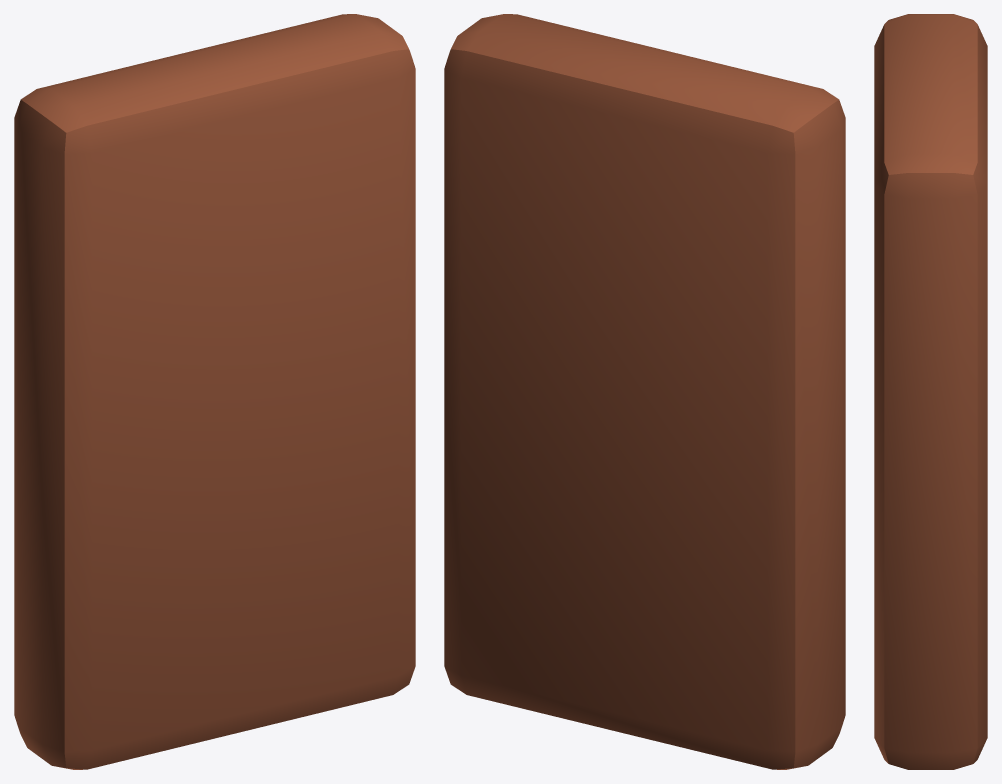
Rendered from air_fryer_release_button.glb.
3 renders of one model, left to right at view 1: azimuth 30°, elevation 25°; view 2: azimuth 150°, elevation 25°; view 3: azimuth 270°, elevation 25°, orthographic. The views are drawn at different scales.
Parts seen in each view (by area): view 1: air_fryer_release_button_x; view 2: air_fryer_release_button_x; view 3: air_fryer_release_button_x.
Part boxes in pixels (<box>): air_fryer_release_button_x: <box>14,14,415,769</box>; air_fryer_release_button_x: <box>444,14,845,769</box>; air_fryer_release_button_x: <box>874,14,987,769</box>.
Size of the model in its own units: 0.014 by 0.024 by 0.004.
